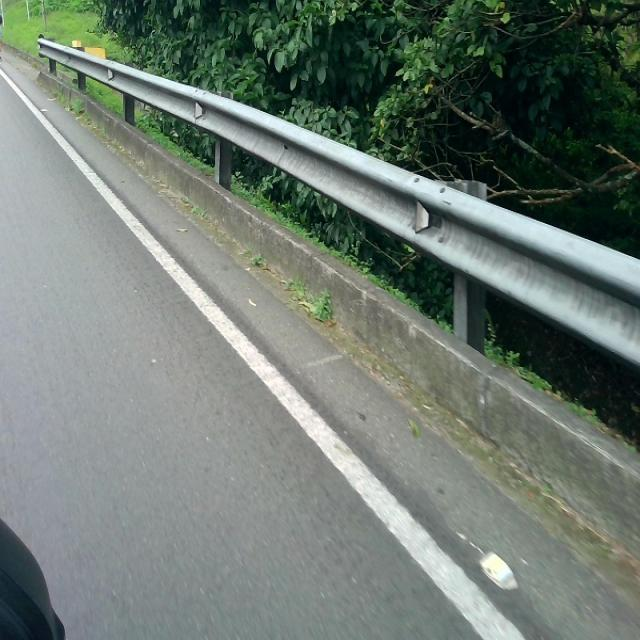DITCH: (1, 40, 638, 638)
